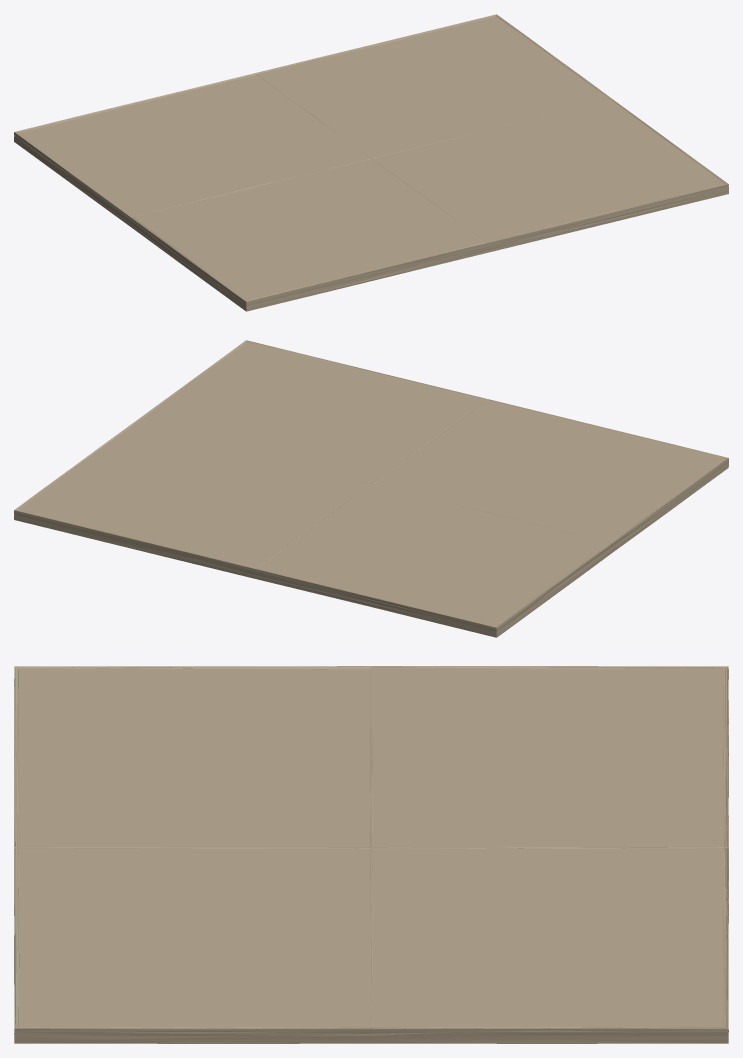
The model's file is SM_HallFloor.fbx.
The picture shows the model from 3 angles, top to bottom: view 1: azimuth 30°, elevation 25°; view 2: azimuth 150°, elevation 25°; view 3: azimuth 270°, elevation 25°; orthographic projection. The views are drawn at different scales.
Parts seen in each view (by area): view 1: SM_HallFloor; view 2: SM_HallFloor; view 3: SM_HallFloor.
Part boxes in pixels (x1,y1,x2,y2): SM_HallFloor: [14, 14, 728, 311]; SM_HallFloor: [14, 340, 728, 637]; SM_HallFloor: [14, 666, 728, 1043].
Size of the model in its own units: 24.02 by 0.4791 by 20.02.
